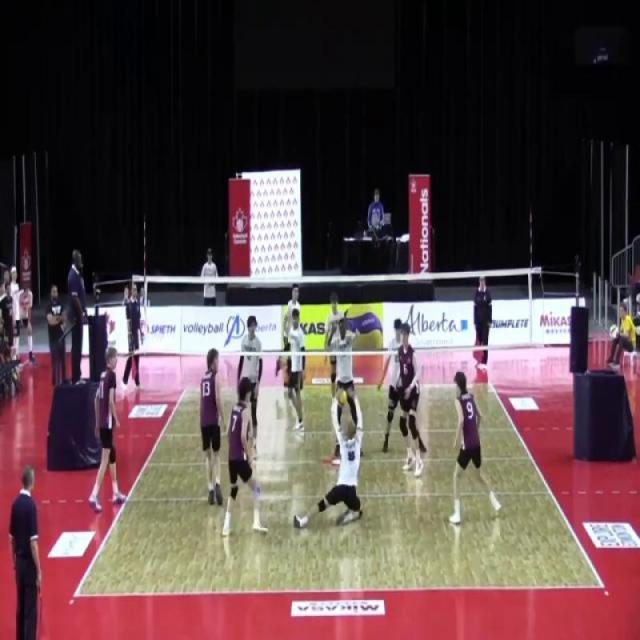volleyball: (341, 304, 383, 350), (336, 388, 348, 408)
